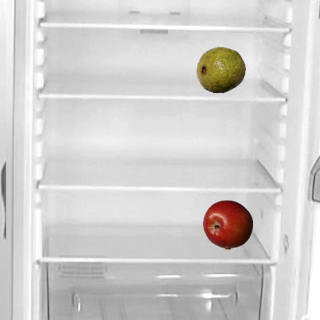Apple Braeburn: (202, 199, 252, 249)
Guava: (195, 44, 245, 94)
